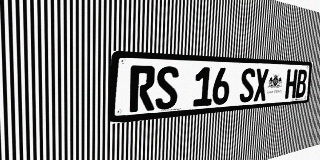1: (193, 67, 213, 107)
6: (212, 67, 231, 105)
B: (295, 69, 307, 98)
H: (285, 69, 298, 99)
R: (129, 65, 156, 112)
S: (155, 66, 179, 110), (239, 68, 255, 103)
X: (253, 68, 269, 102)
